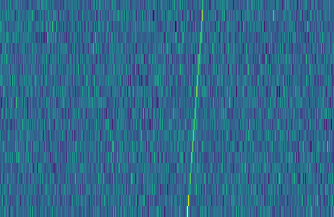signal: (183, 0, 208, 217)
